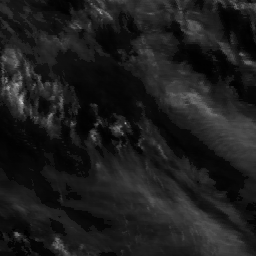Target: (123, 120, 129, 125)
